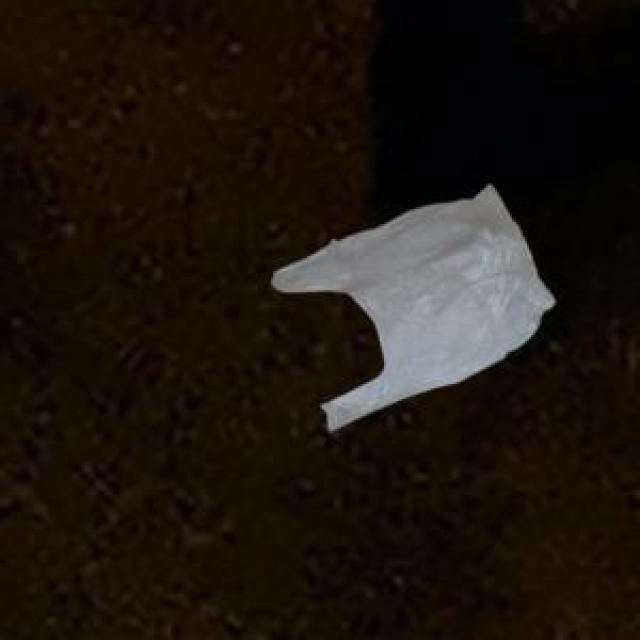waste: (273, 181, 560, 430)
